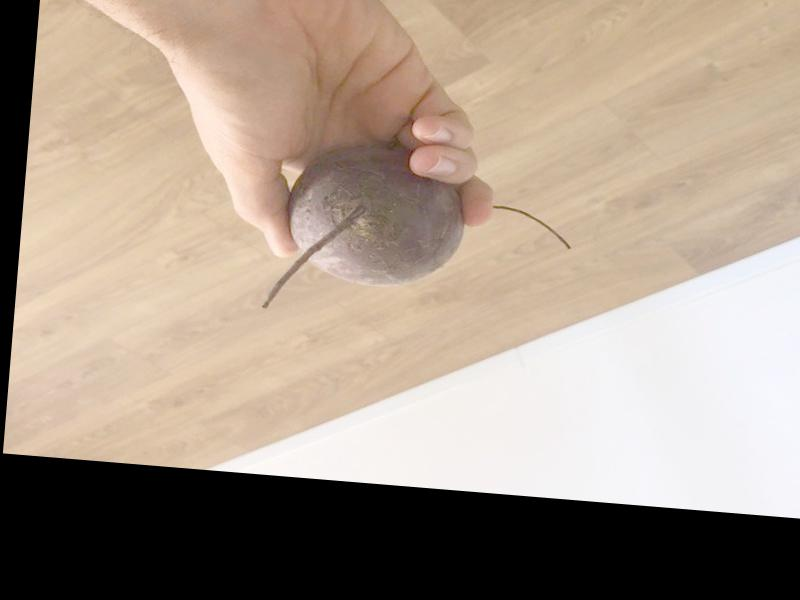Beet: (263, 136, 579, 332)
